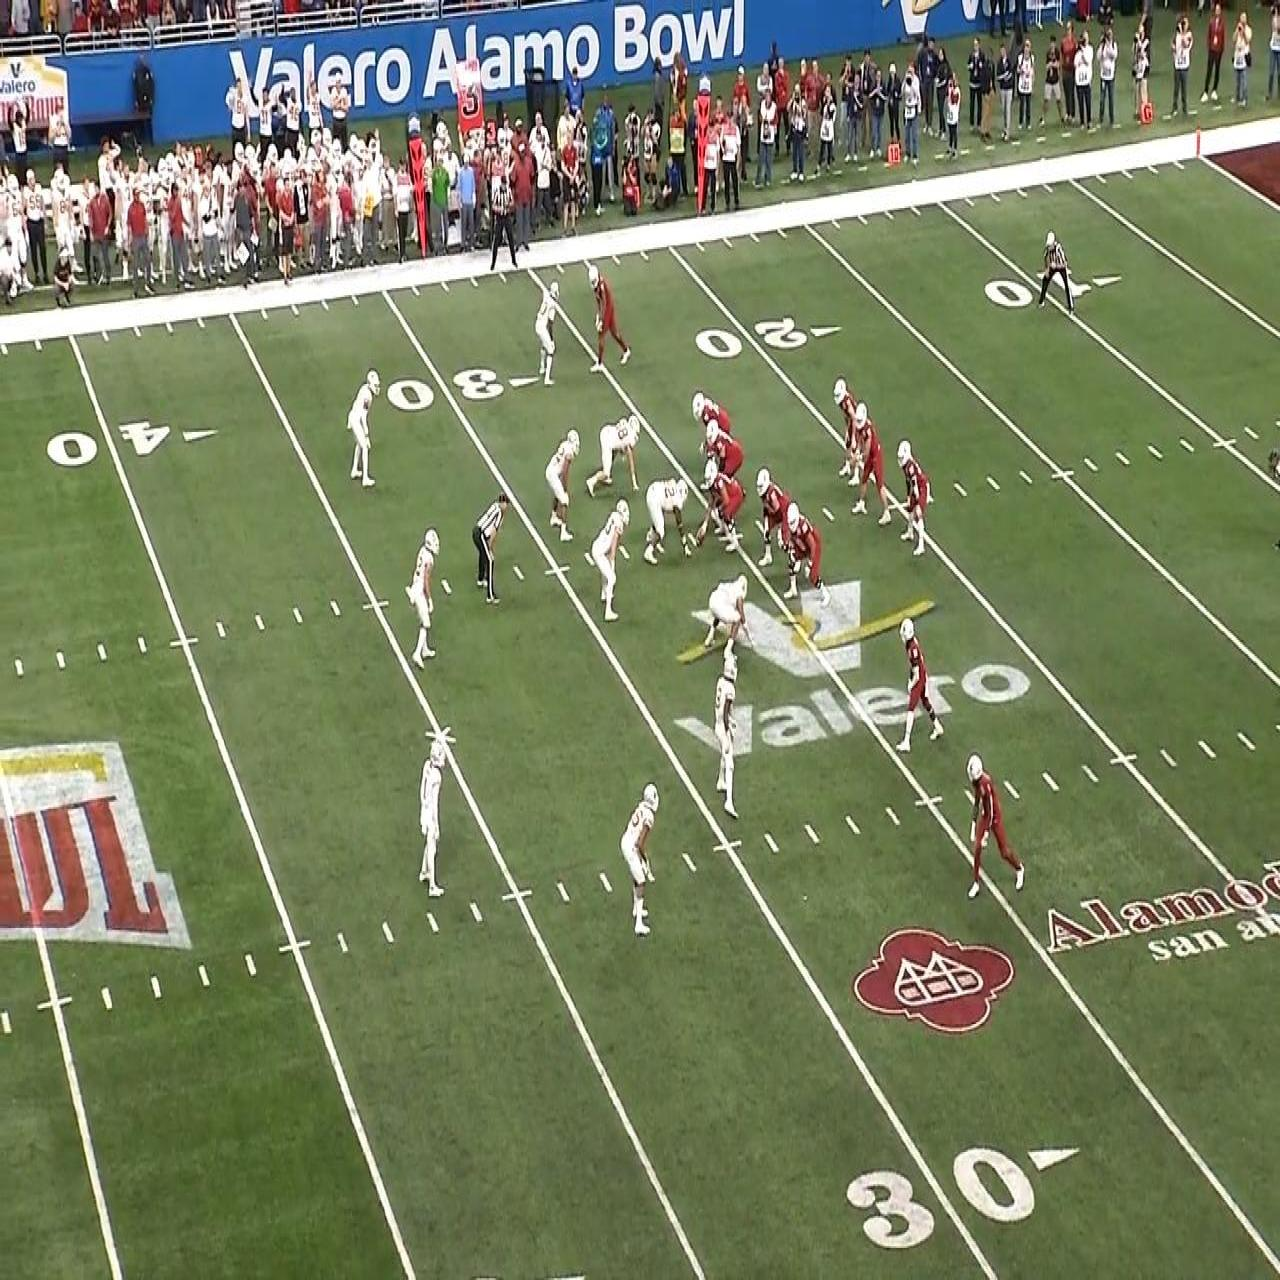10R: (984, 262, 1123, 314)
20R: (694, 315, 843, 357)
30R: (844, 1144, 1082, 1252), (386, 367, 543, 410)
40R: (47, 421, 219, 468)
